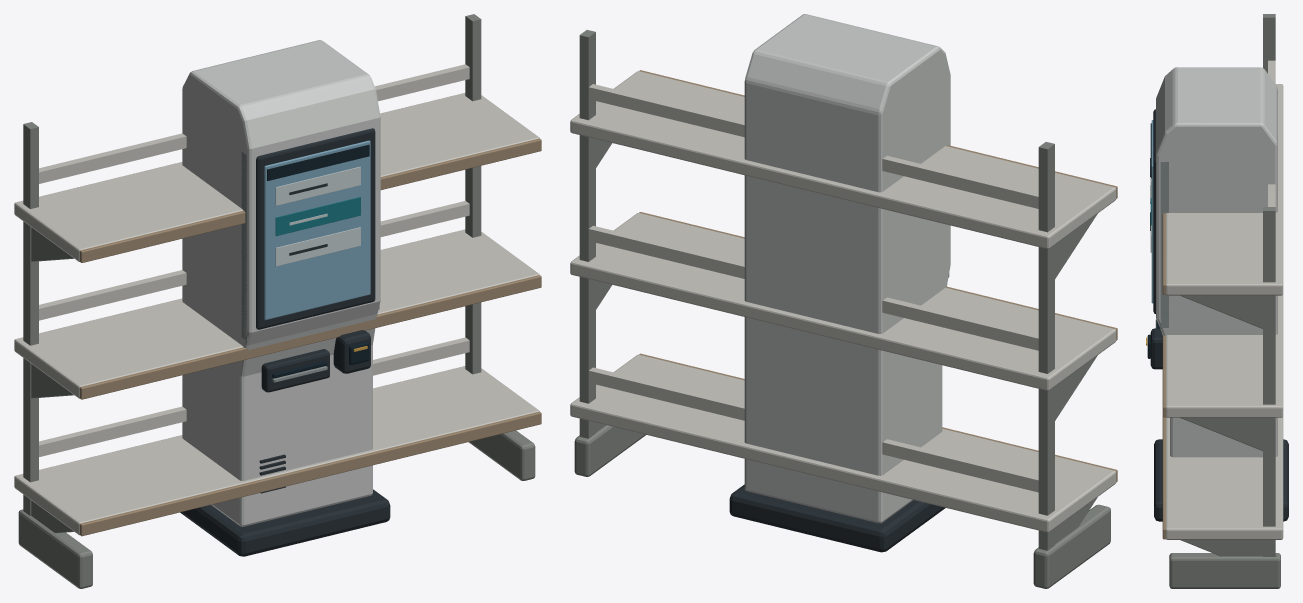
File: fixtures.glb
3 renders of one model, left to right at view 1: azimuth 30°, elevation 25°; view 2: azimuth 150°, elevation 25°; view 3: azimuth 270°, elevation 25°, orthographic. The views are drawn at different scales.
Visible parts, largest first — view 1: CushionRack, TicketKiosk; view 2: CushionRack, TicketKiosk; view 3: CushionRack, TicketKiosk.
Boxes of the visible parts, x1,y1,x2,y2 form: CushionRack: (14, 14, 541, 588); TicketKiosk: (180, 40, 390, 556); CushionRack: (570, 30, 1117, 588); TicketKiosk: (729, 14, 950, 552); CushionRack: (1162, 14, 1283, 588); TicketKiosk: (1146, 67, 1288, 521).
Size of the model in its own units: 1.95 by 1.78 by 0.5825.
